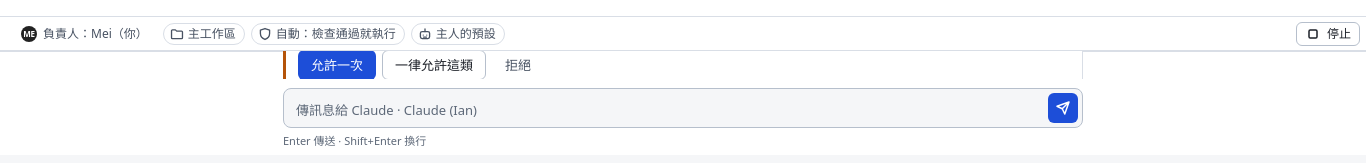
Test case: conversation column in zh-TW › a member with agent access reads and answers in Chinese
The image size is (1366, 163).
(page scrolled)
Expected: the button "ME 負責人：Mei（你）" is shown, [12,22,157,46]
Expected: the text "主工作區" is shown, [188,28,236,40]
Click the button "拒絕". click: coordinates (518, 65)
box: [492,50,544,80]
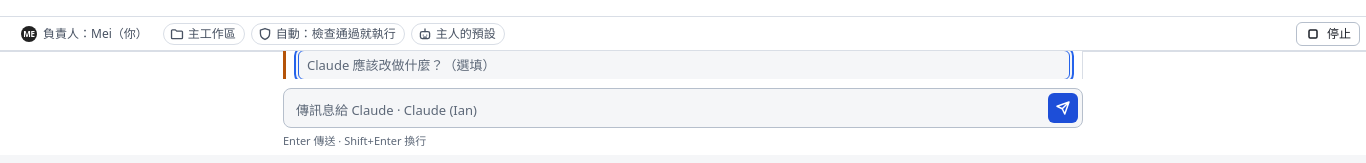
Expected: the element with class "conv-status" shows "Claude 正在等待許可", [307,59,421,76]
Now the field labelled "Claude 應該改做什麼？（選填）" is shown, box [298,51,1070,79]
